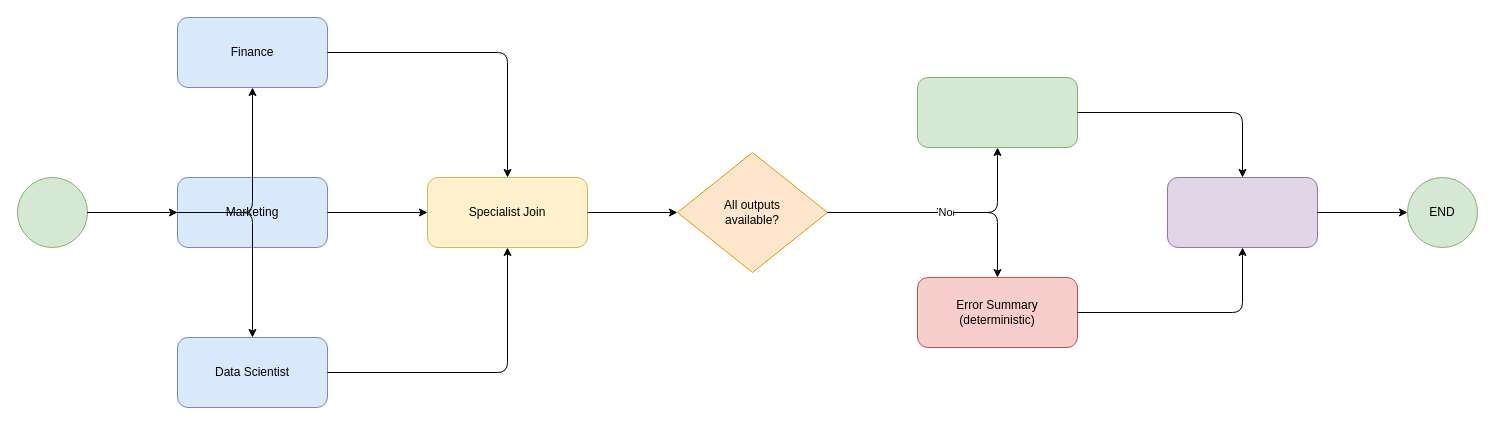
This 1495x425 diagram has some shape labels left out. Here are the shapes that lost their labels. From the top down, the centre of each, then its label:
At pixel 997 112: "Report Agent".
At pixel 52 212: "START".
At pixel 1242 212: "CEO Agent".
